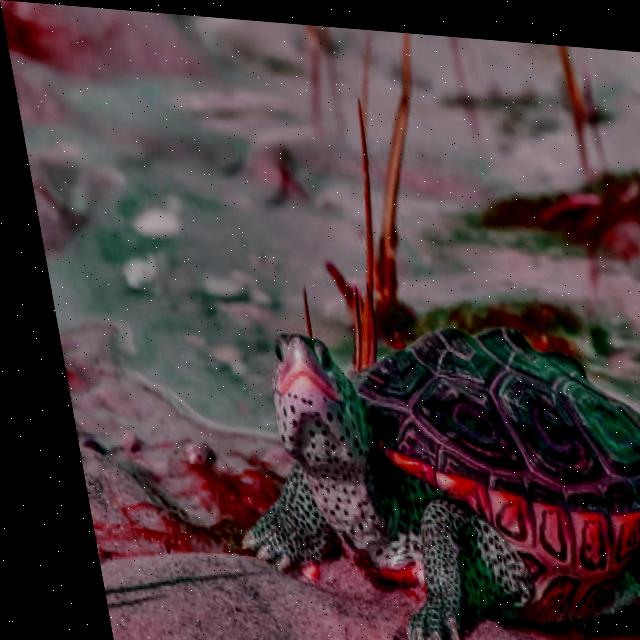terrapin: (188, 278, 640, 640), (300, 289, 640, 546), (228, 307, 368, 482), (375, 473, 470, 640), (227, 472, 312, 601)
